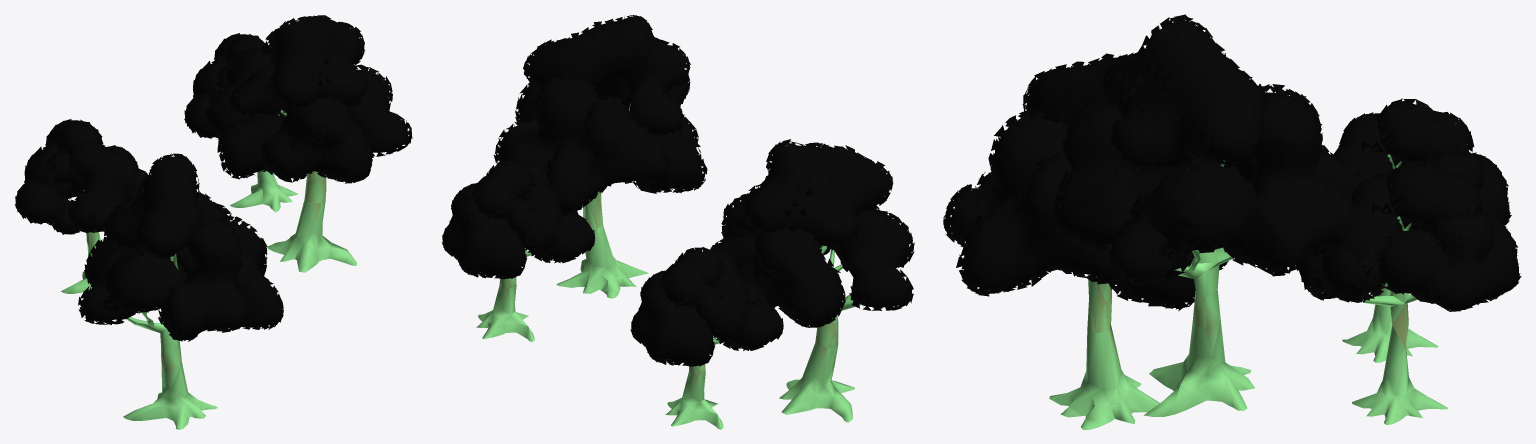
Rendered from SM_ENV_LKNVLD_TreeSet_N_Lod1.gltf.
3 views of the same model, side by side, from view 1: azimuth 30°, elevation 25°; view 2: azimuth 150°, elevation 25°; view 3: azimuth 270°, elevation 25° (orthographic). The views are drawn at different scales.
Parts seen in each view (by area): view 1: SM_ENV_LKNVLD_TreeSet_N_Lod1; view 2: SM_ENV_LKNVLD_TreeSet_N_Lod1; view 3: SM_ENV_LKNVLD_TreeSet_N_Lod1.
Boxes of the visible parts, x1=… form: SM_ENV_LKNVLD_TreeSet_N_Lod1: x1=14, y1=15, x2=412, y2=429; SM_ENV_LKNVLD_TreeSet_N_Lod1: x1=441, y1=15, x2=914, y2=429; SM_ENV_LKNVLD_TreeSet_N_Lod1: x1=943, y1=14, x2=1521, y2=429.
Size of the model in its own units: 19.65 by 19.06 by 19.98.
